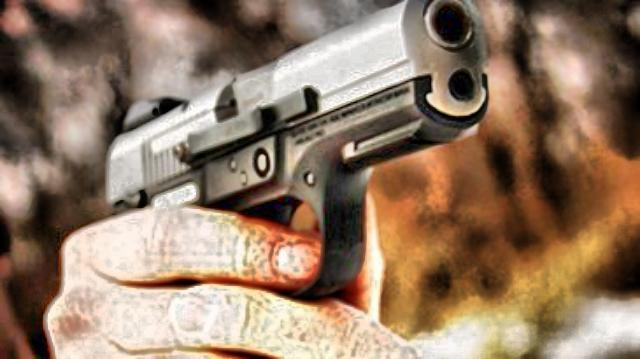pistol: (100, 0, 486, 292)
